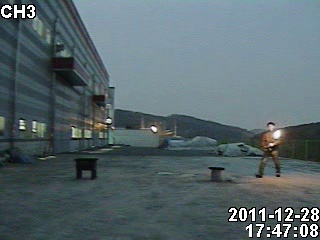fire: (269, 125, 286, 140)
